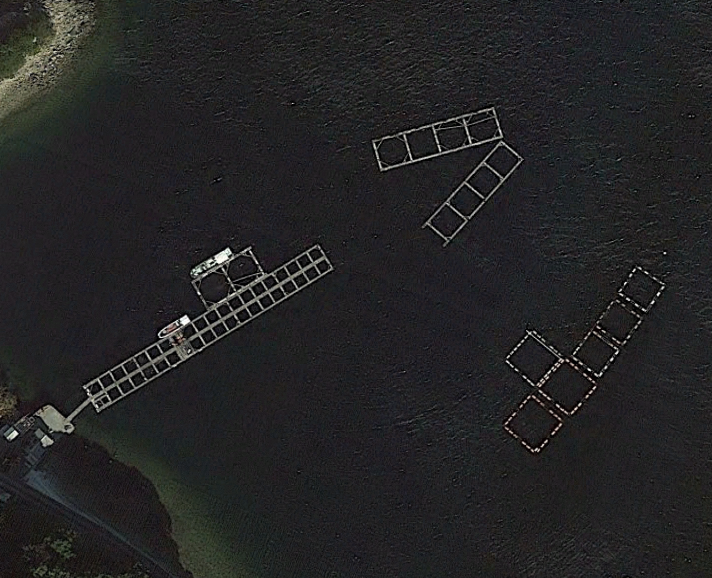ship: (178, 242, 239, 277), (147, 311, 195, 342)
square: (500, 322, 570, 389), (498, 392, 565, 456), (536, 356, 602, 417), (614, 257, 669, 316), (566, 323, 620, 377), (591, 295, 644, 345)
